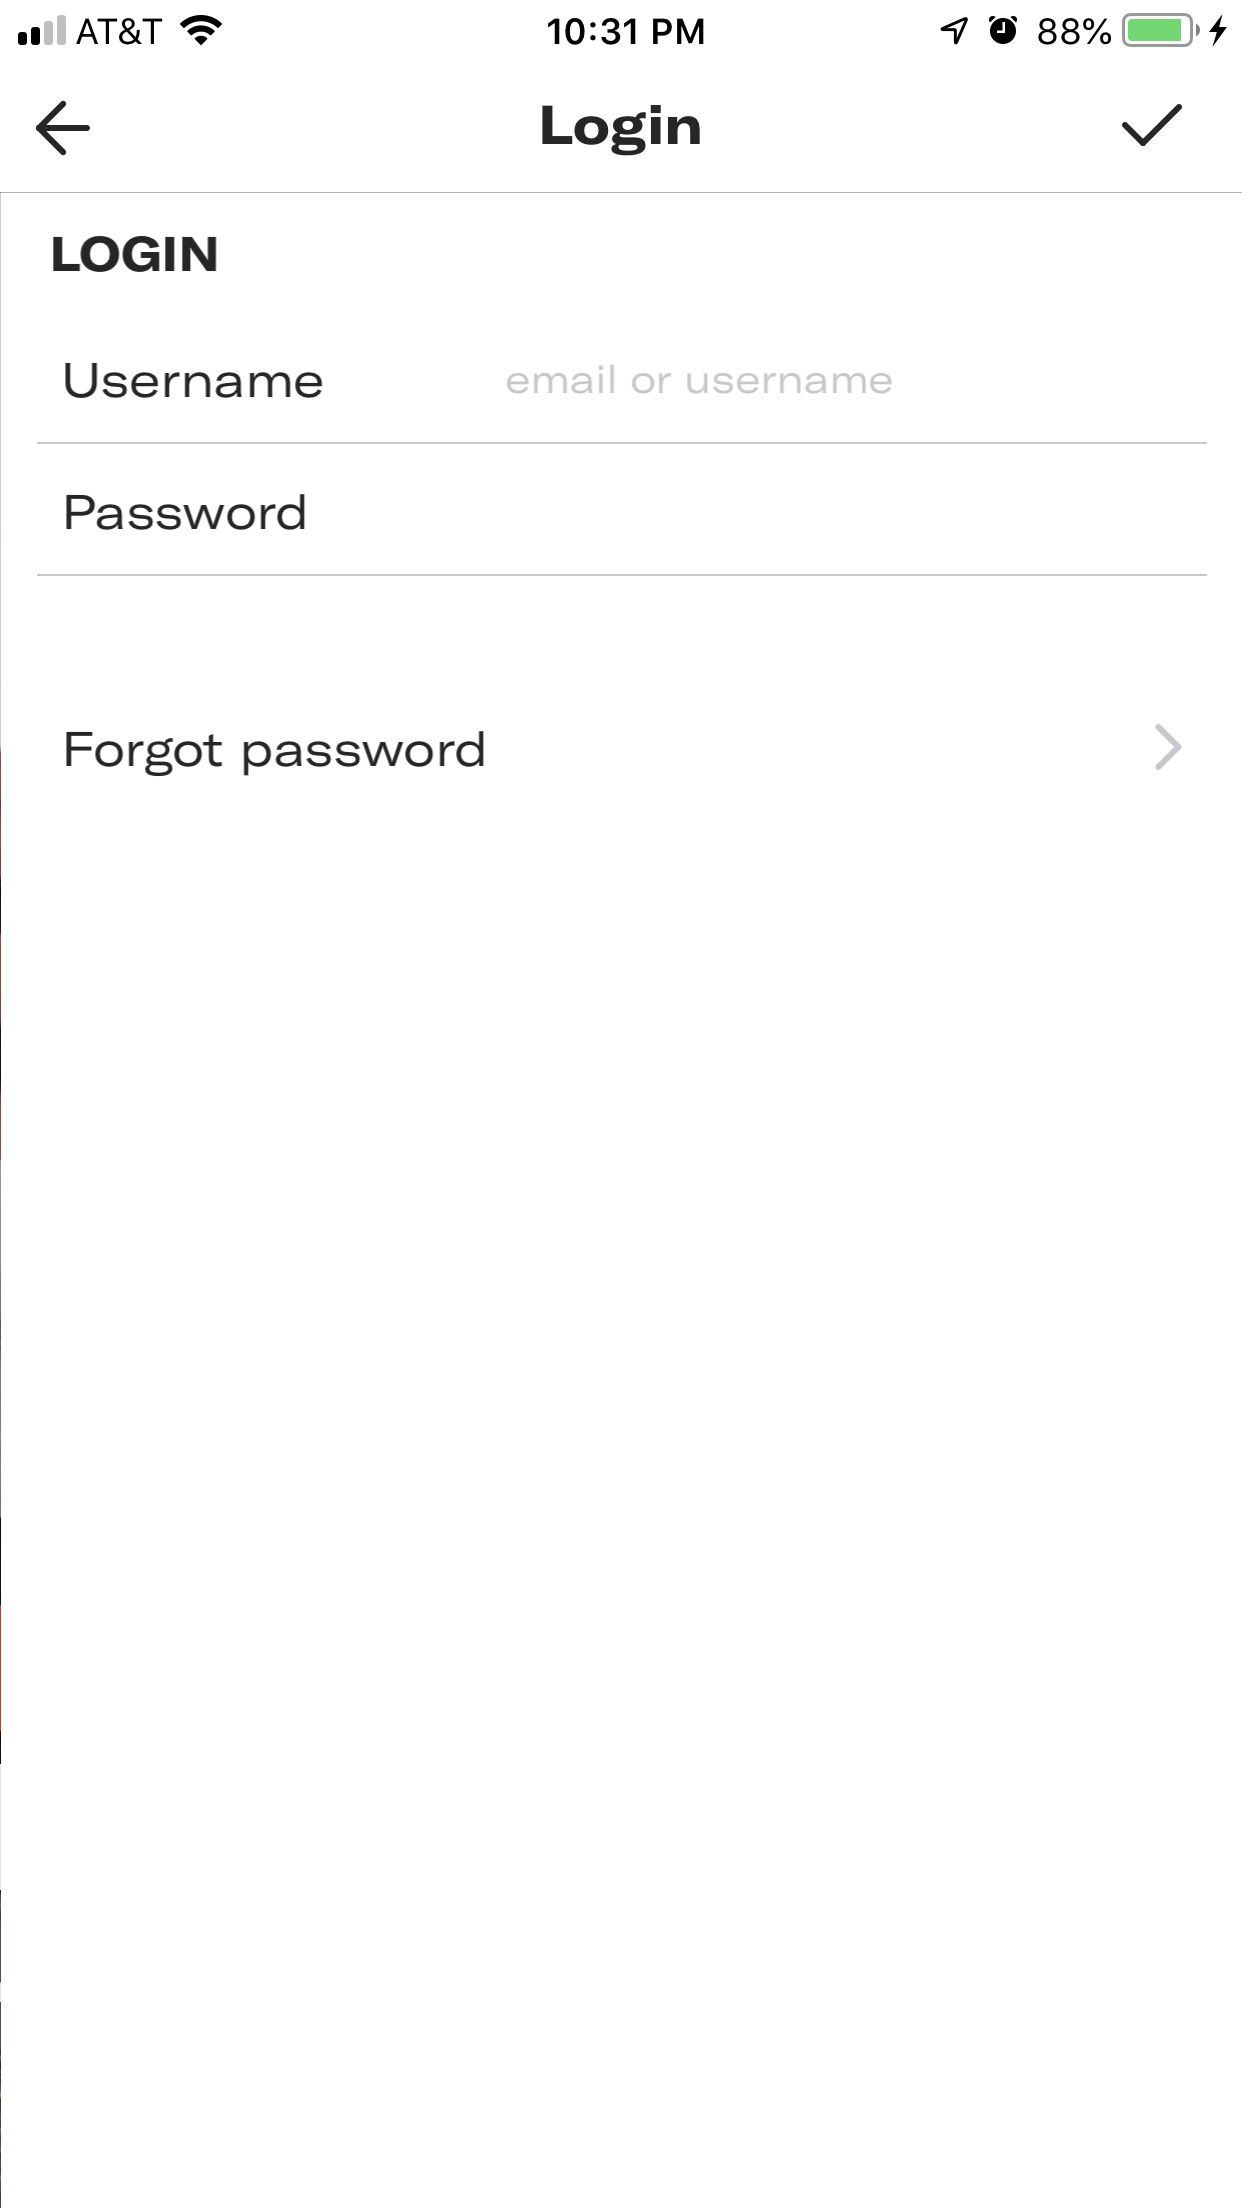EditText: (36, 491, 1207, 578), (38, 362, 1209, 446)
Icon: (36, 102, 93, 158), (1121, 105, 1183, 149), (1154, 725, 1183, 772)
Text: (67, 731, 485, 778), (507, 367, 893, 396), (65, 362, 323, 400), (67, 494, 306, 531), (541, 105, 701, 158), (55, 237, 217, 273)
UpperTaskBar: (2, 2, 1242, 49)
